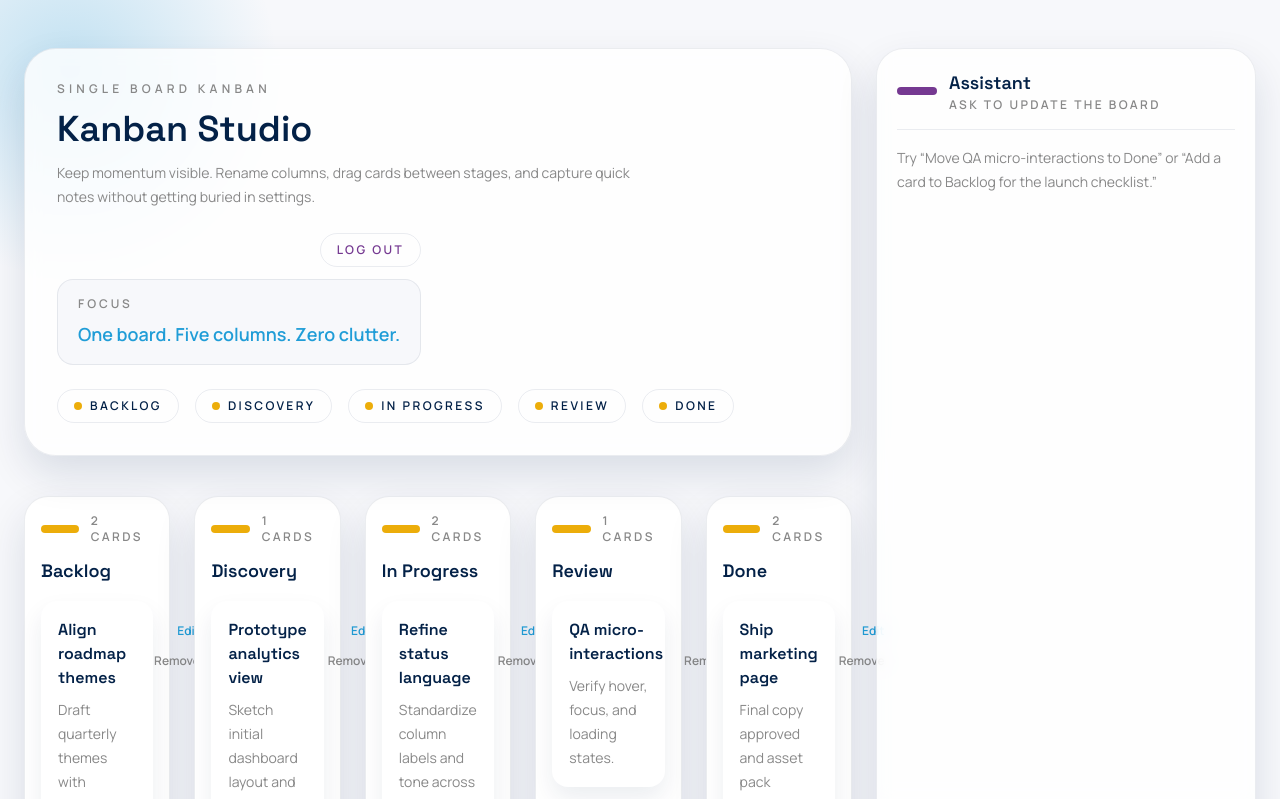
Test: KanbanBoard › edits a card title and details through the API
Click the button with aria-label "edit align roadmap themes" at (189, 631), box [168,618,209,644]
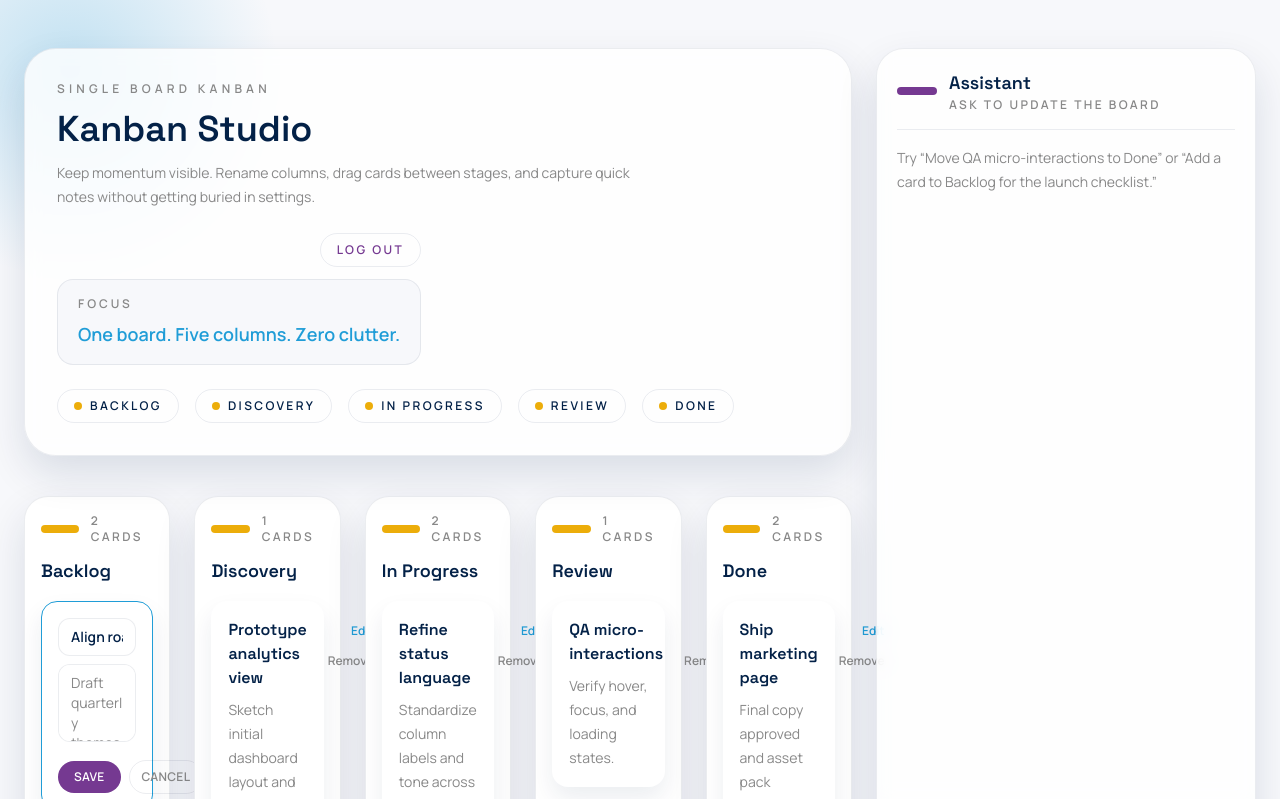
Replace the text in the field named "Card title" with "Updated title" at (97, 637), box [58,618,136,656]
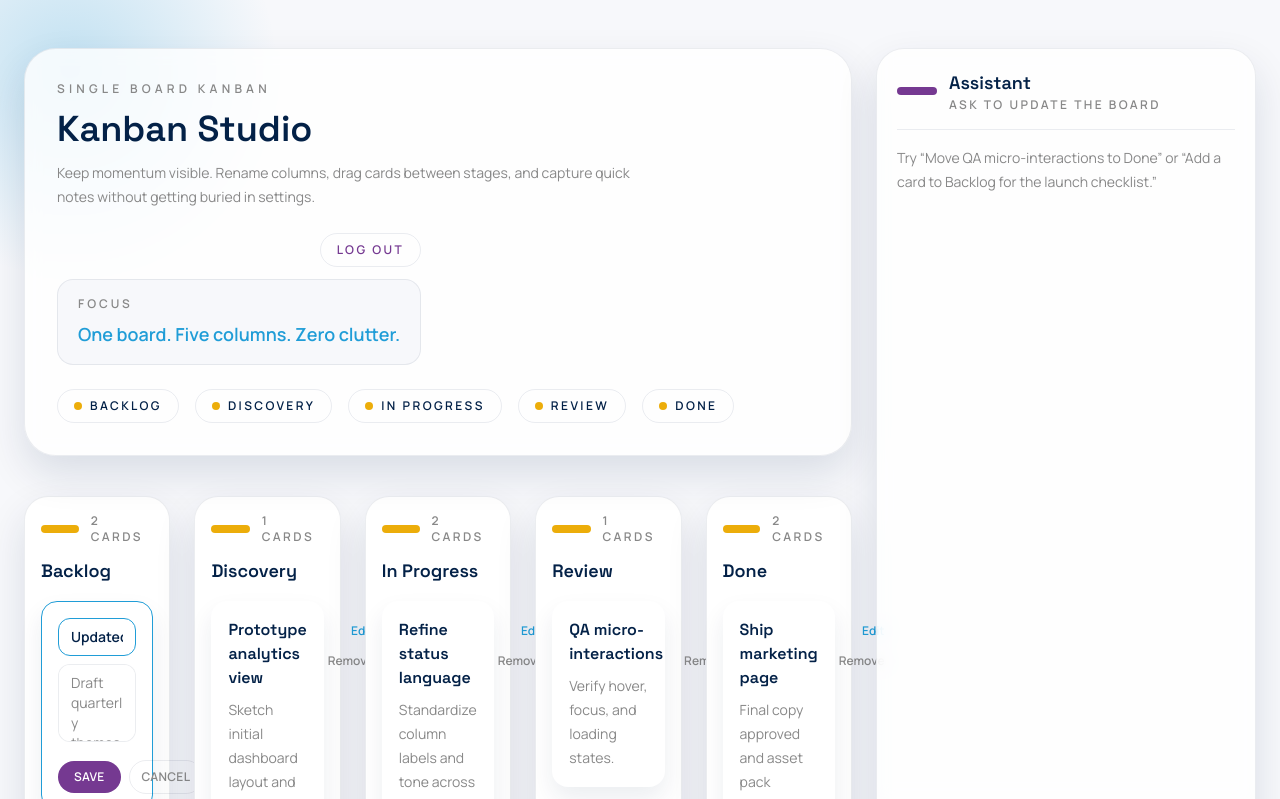
Replace the text in the text box named "Card details" with "Updated details" at (97, 703), box [58,664,136,742]
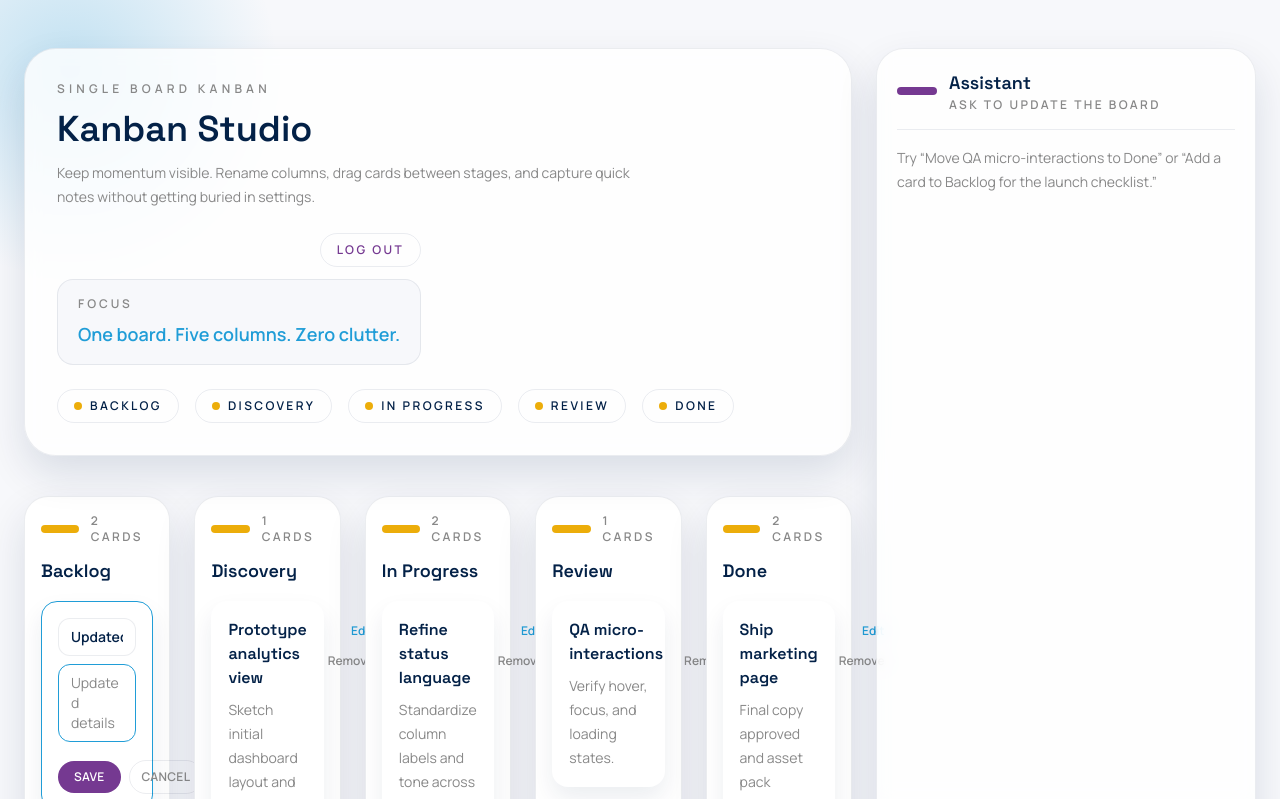
Click the button "Save" at (89, 777), box [58,761,120,793]
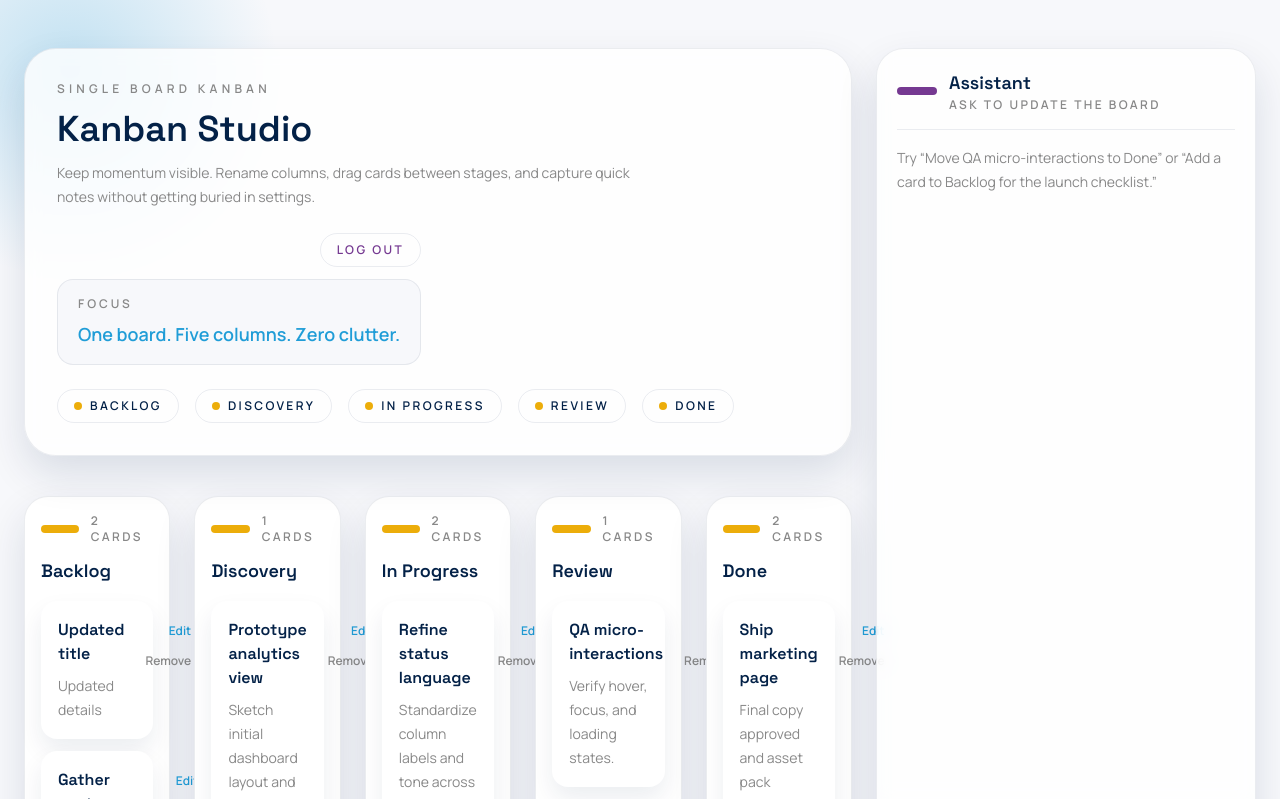
Check: the heading "Updated title" is shown, box [58,618,124,666]
Check: the text "Updated details" is shown, box [58,676,114,719]
